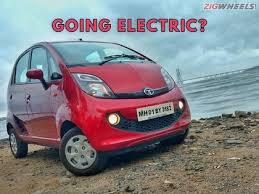Nano: (7, 40, 193, 177)
